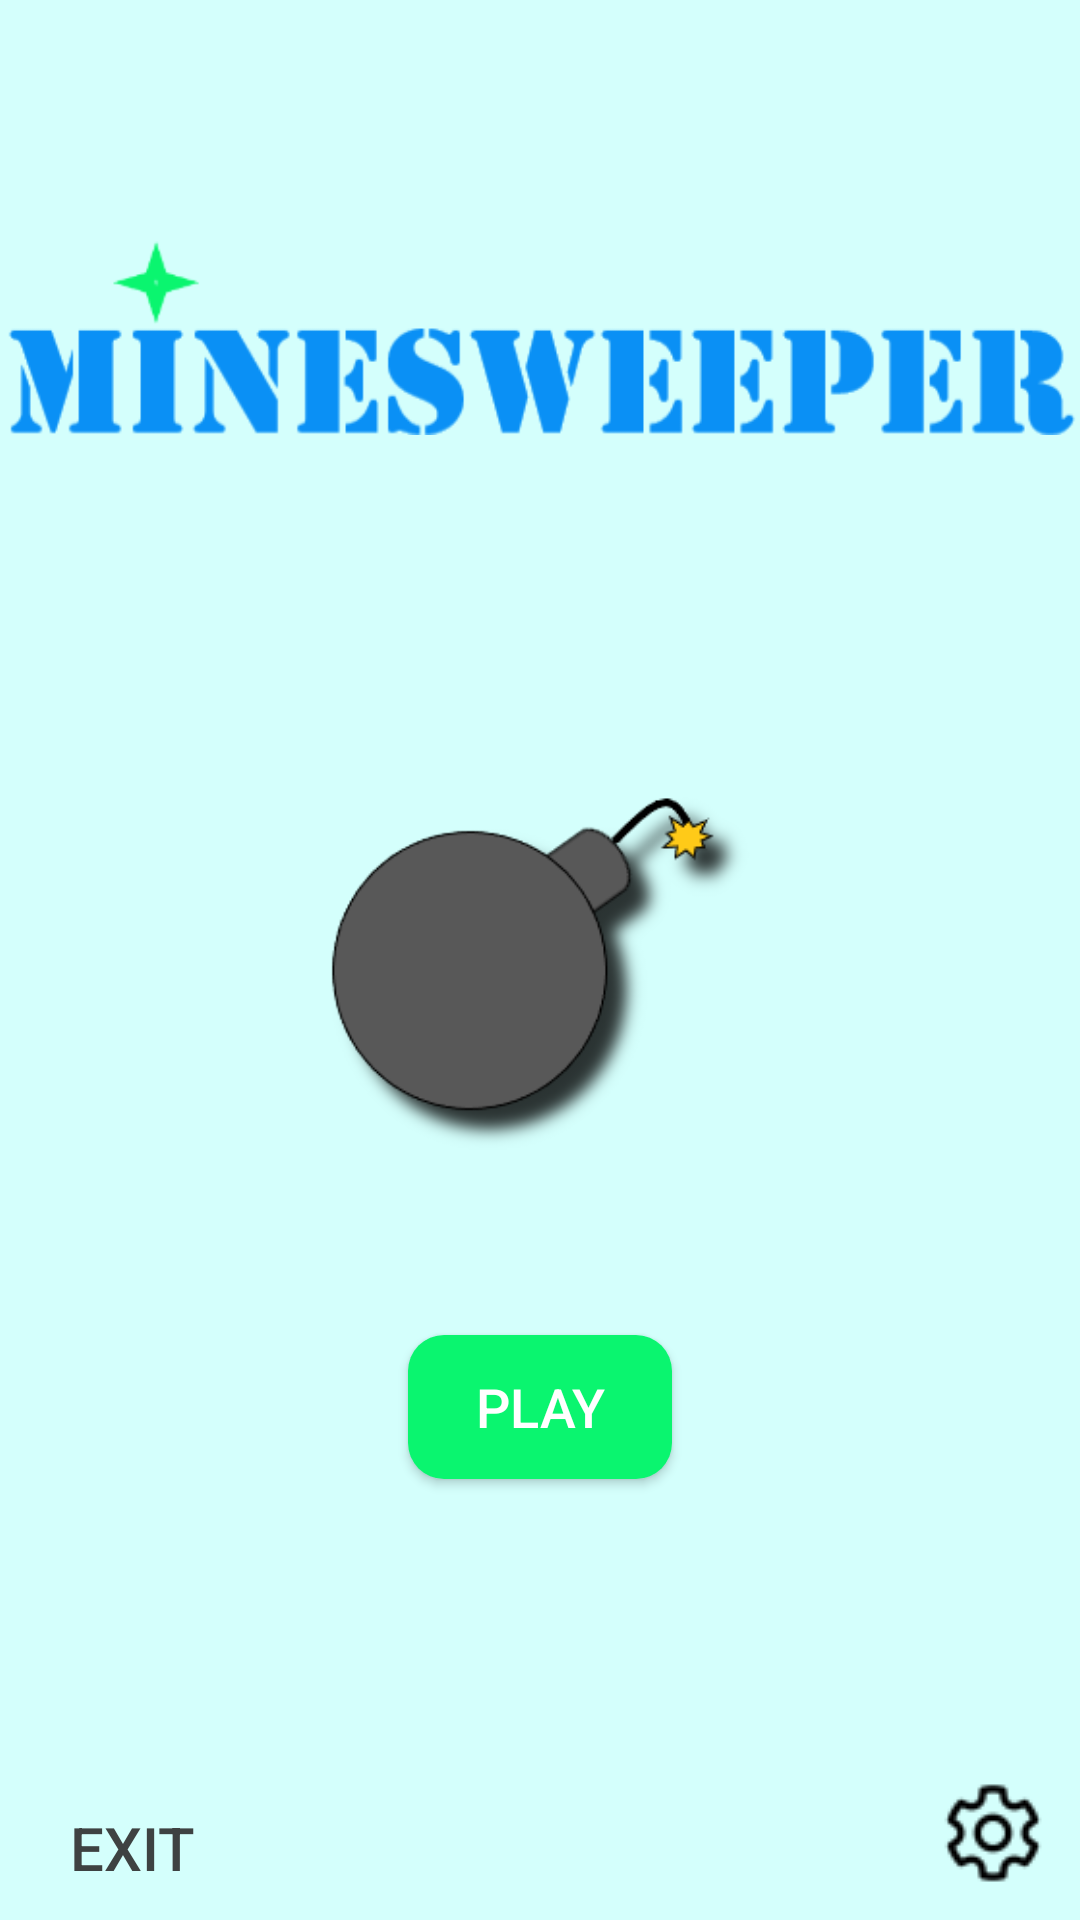

Where to tap for icons on this 1080×1920 app screen, as [x,y]:
settings: [993,1833]
